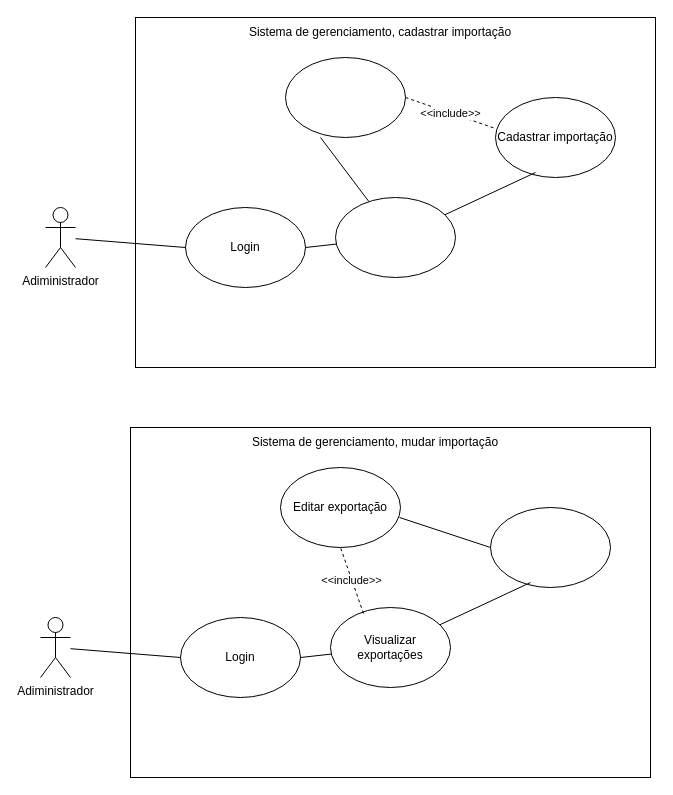
The diagram is 673 pixels wide and 795 high, and some of its shapes have lost their labels. The shapes that lost their labels are listed below. From the top down, each one's centre as x and y in pixels, then its label:
At point 345,97: "Cadastrar cliente".
At point 395,237: "Visualizar dados".
At point 550,547: "Salvar alteração".
